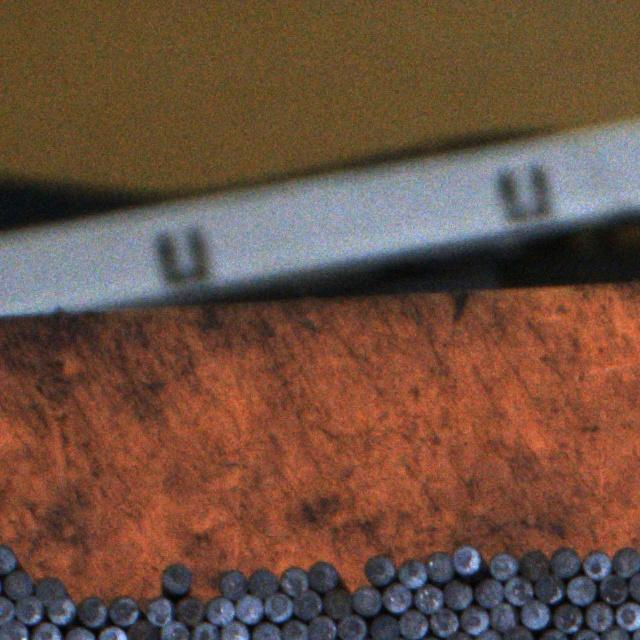tool: (362, 602, 406, 640), (160, 562, 193, 594), (2, 568, 36, 598), (308, 559, 339, 591), (451, 542, 482, 574), (551, 602, 583, 633), (550, 545, 580, 578), (382, 579, 411, 613), (516, 549, 550, 578), (45, 595, 77, 625), (364, 552, 394, 584), (564, 574, 596, 604), (580, 549, 612, 579), (598, 574, 628, 605), (610, 546, 640, 577), (234, 593, 264, 624), (412, 583, 443, 613), (460, 604, 490, 635), (519, 599, 550, 629), (473, 576, 503, 607), (533, 573, 564, 603), (36, 575, 68, 604), (426, 550, 455, 582), (218, 568, 248, 598), (397, 557, 427, 587), (443, 578, 472, 609), (584, 602, 615, 631), (489, 549, 518, 580), (15, 595, 45, 624), (77, 596, 106, 626), (108, 595, 137, 625), (292, 588, 322, 617), (352, 585, 382, 614), (247, 568, 277, 597), (279, 565, 308, 595), (488, 602, 519, 630), (428, 607, 458, 635), (264, 591, 291, 622), (400, 610, 428, 639), (145, 596, 173, 625), (205, 595, 234, 623), (323, 588, 352, 616), (503, 576, 532, 604), (615, 600, 640, 632), (175, 596, 202, 624), (338, 614, 367, 640), (307, 615, 336, 640), (126, 619, 158, 640), (159, 620, 190, 640), (280, 618, 308, 640), (0, 619, 29, 640), (220, 620, 249, 640), (32, 621, 62, 640), (190, 621, 219, 640), (251, 621, 280, 640), (0, 543, 17, 573), (63, 625, 96, 640), (500, 626, 534, 640), (600, 625, 630, 640), (96, 626, 128, 640), (0, 596, 14, 624)
